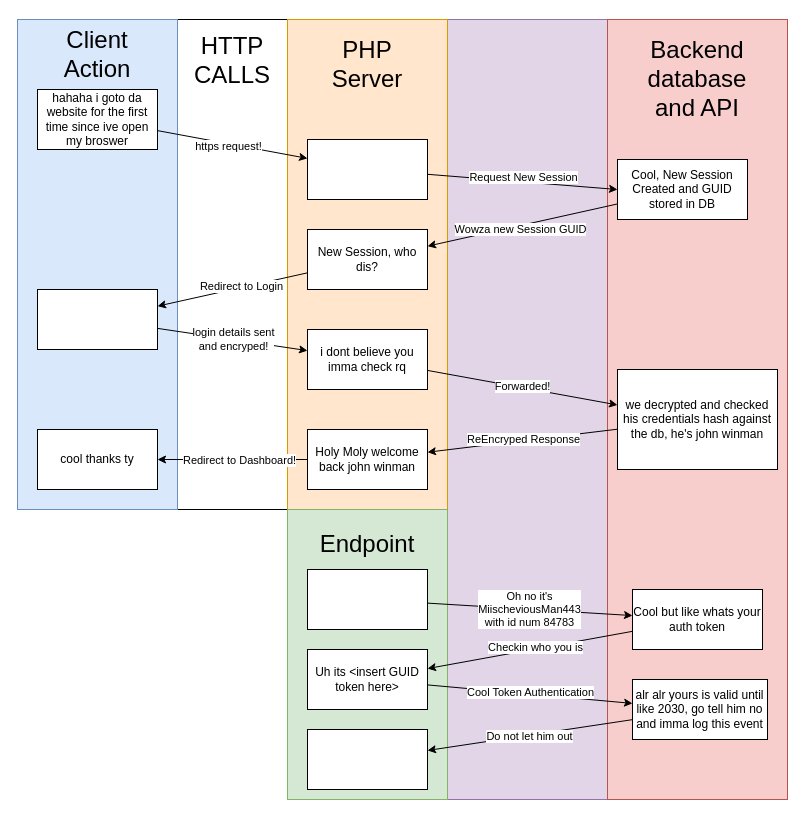
Image size: 805x817. Some labels were removed from this diagram. Each missing label, with the box of its shape:
API CALLS (JSON): (446, 18, 608, 800)
Cool beans ttyl bbg: (306, 728, 428, 790)
haha i am john winman: (36, 288, 158, 350)
New Session: (306, 138, 428, 200)
Yo wassup someone just attempted to signout: (306, 568, 428, 630)
